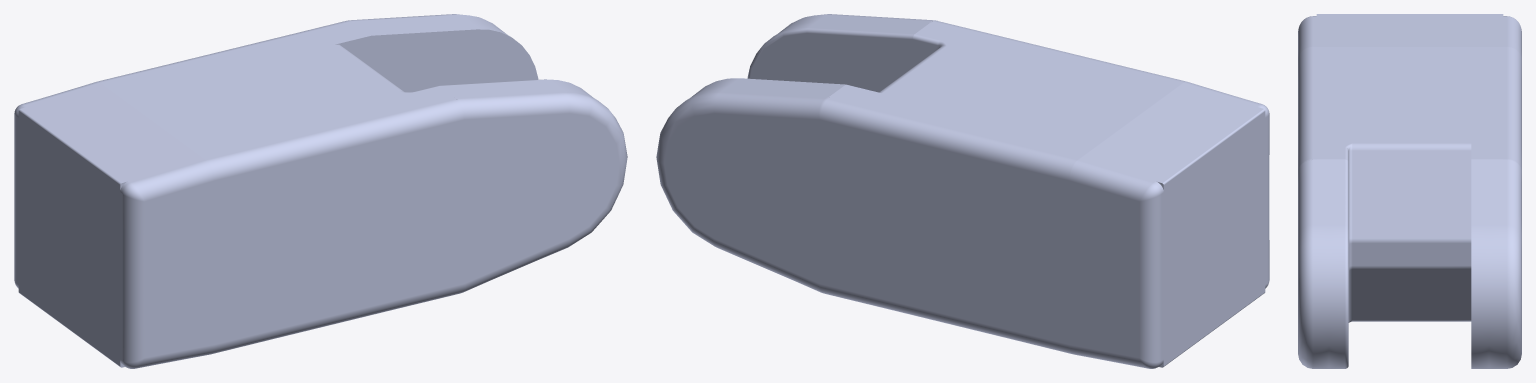
3 renders of one model, left to right at view 1: azimuth 30°, elevation 25°; view 2: azimuth 150°, elevation 25°; view 3: azimuth 270°, elevation 25°, orthographic. The views are drawn at different scales.
Visible parts, largest first — view 1: d96b7df7-00a3-4a49-a8c3-24c0a872fa1d; view 2: d96b7df7-00a3-4a49-a8c3-24c0a872fa1d; view 3: d96b7df7-00a3-4a49-a8c3-24c0a872fa1d.
Boxes of the visible parts, bbox=[...] form: d96b7df7-00a3-4a49-a8c3-24c0a872fa1d: bbox=[14, 14, 627, 368]; d96b7df7-00a3-4a49-a8c3-24c0a872fa1d: bbox=[656, 14, 1269, 368]; d96b7df7-00a3-4a49-a8c3-24c0a872fa1d: bbox=[1298, 14, 1521, 368].
Bounding box in the file's own units: 0.286 × 0.12 × 0.105.
